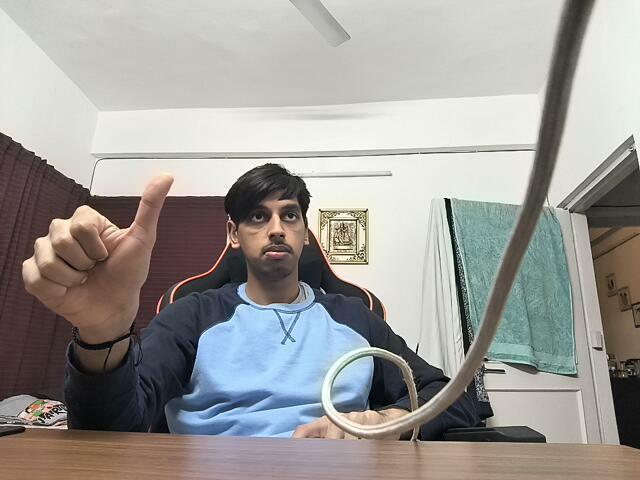LEFT: (25, 165, 177, 341)
